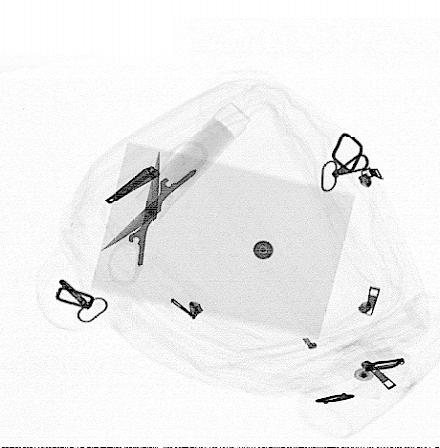Scissors: (94, 138, 210, 287)
